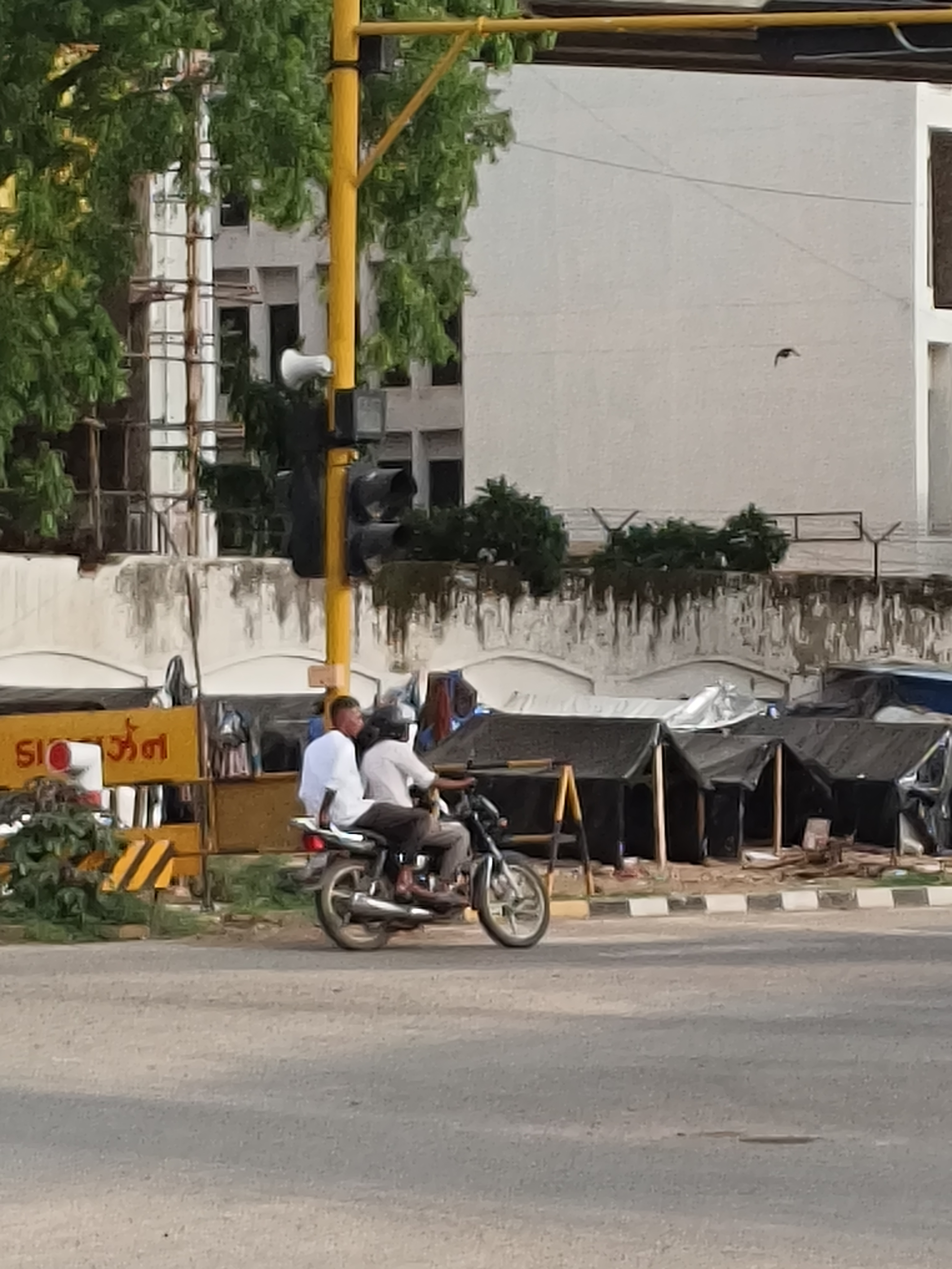BikeWithRider: (277, 687, 561, 959)
Helmet: (372, 696, 422, 754)
NoHelmet: (325, 692, 368, 743)
